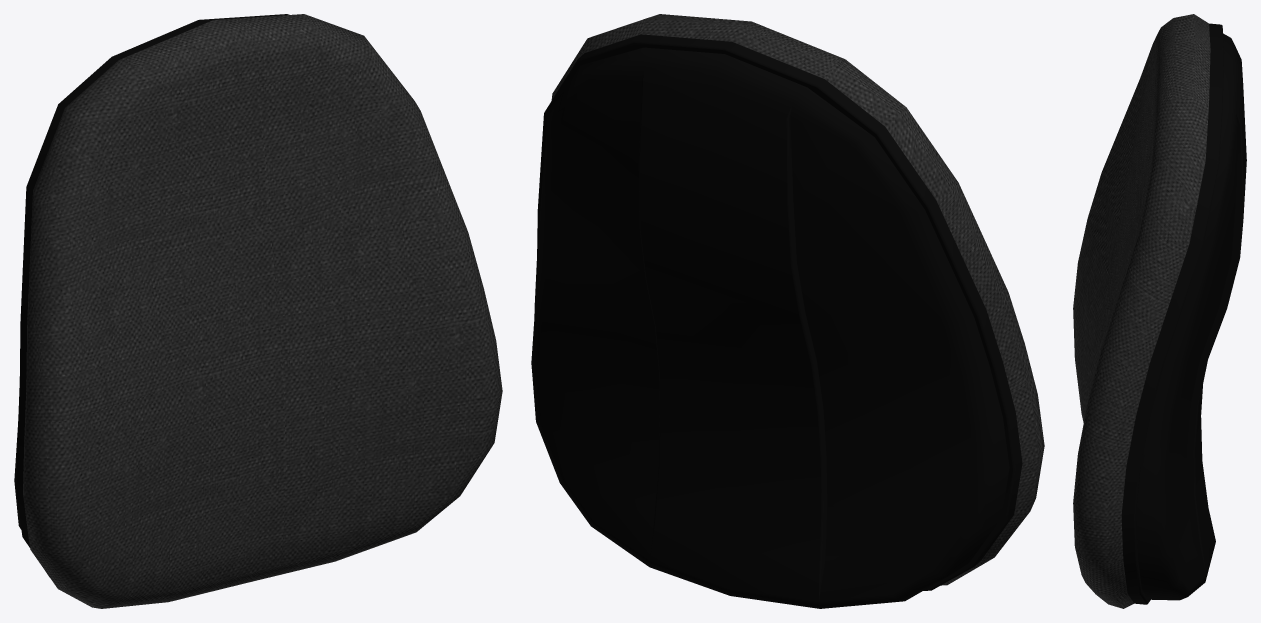
The picture shows the model from 3 angles, left to right: view 1: azimuth 30°, elevation 25°; view 2: azimuth 150°, elevation 25°; view 3: azimuth 270°, elevation 25°; orthographic projection. The views are drawn at different scales.
Parts seen in each view (by area): view 1: part1:backrest 1; view 2: part1:backrest 1; view 3: part1:backrest 1.
Part boxes in pixels (x1,y1,x2,y2): part1:backrest 1: [14, 14, 502, 608]; part1:backrest 1: [531, 14, 1044, 608]; part1:backrest 1: [1073, 14, 1246, 608].
Bounding box in the file's own units: 0.4824 × 0.5272 × 0.1616.
2 materials, 1 textured.
